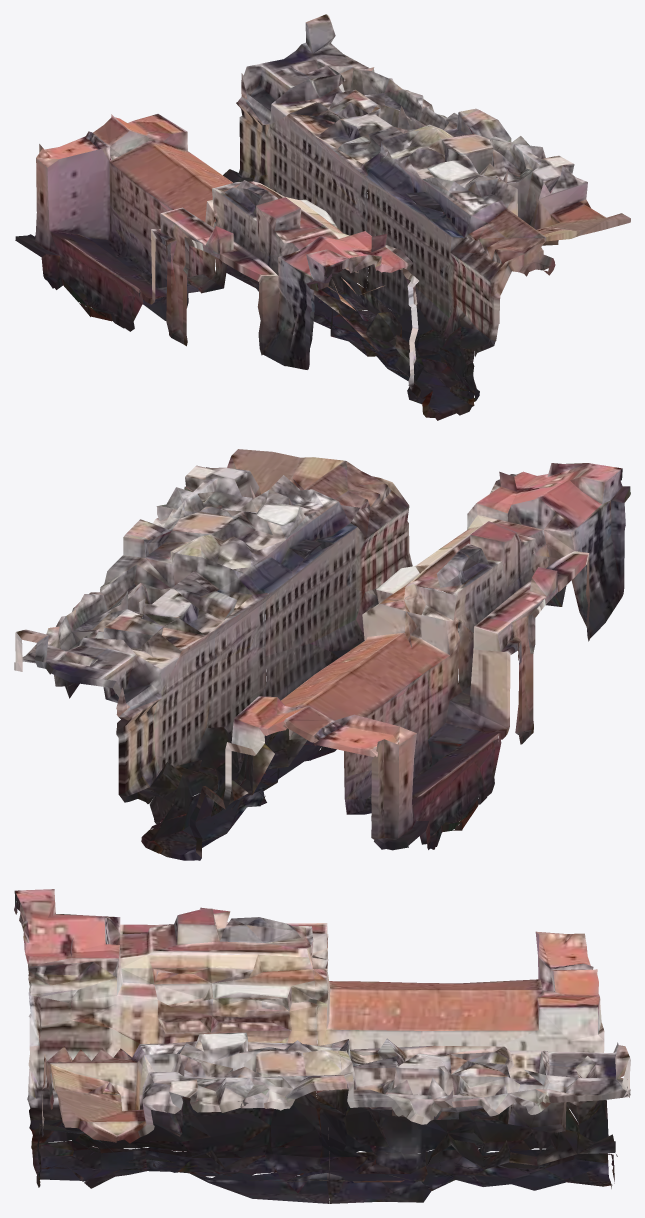
The picture shows the model from 3 angles, top to bottom: view 1: azimuth 30°, elevation 25°; view 2: azimuth 150°, elevation 25°; view 3: azimuth 270°, elevation 25°; orthographic projection. The views are drawn at different scales.
Visible parts, largest first — view 1: Mesh_0; view 2: Mesh_0; view 3: Mesh_0.
Part boxes in pixels (x1,y1,x2,y2): Mesh_0: (15, 14, 630, 420); Mesh_0: (14, 449, 630, 860); Mesh_0: (14, 889, 630, 1203).
Size of the model in its own units: 66.87 by 32.21 by 82.56.
1 material, 1 textured.
